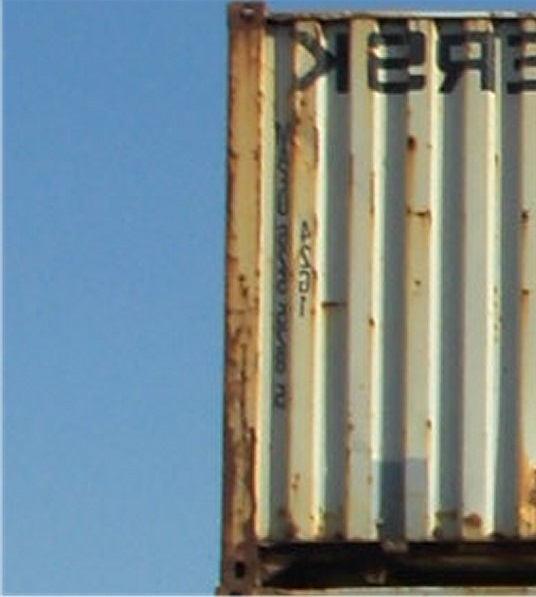container_no_door: (216, 5, 531, 593)
